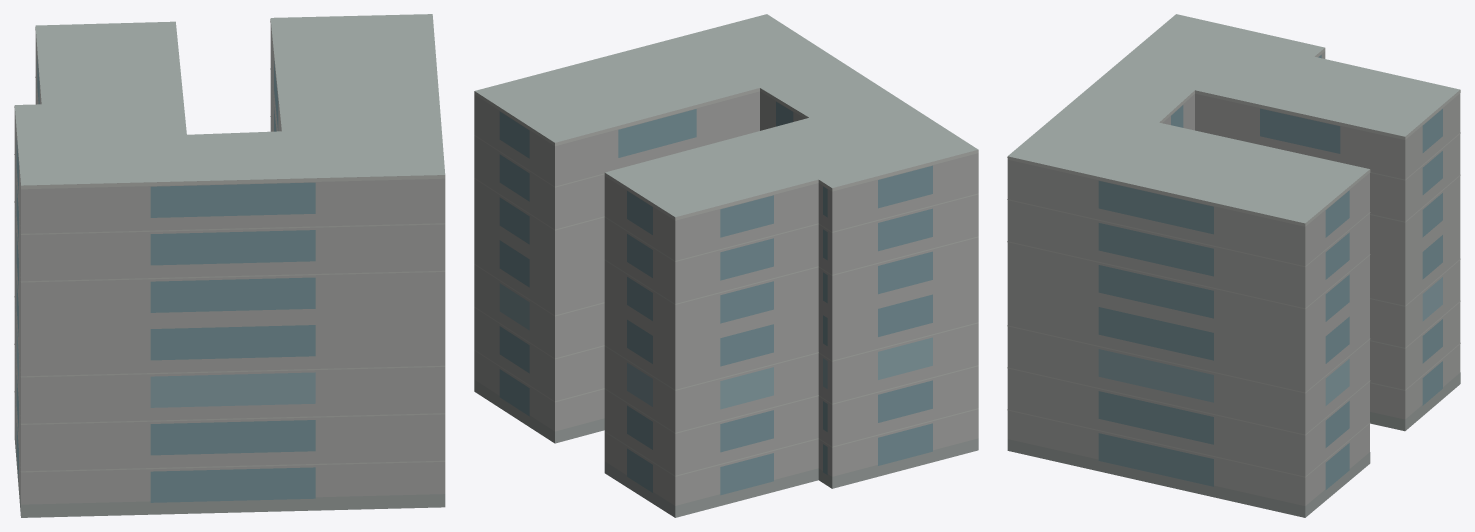
File: survey-upis-33011089.glb
3 renders of one model, left to right at view 1: azimuth 30°, elevation 25°; view 2: azimuth 150°, elevation 25°; view 3: azimuth 270°, elevation 25°, orthographic. The views are drawn at different scales.
Visible parts, largest first — view 1: survey-upis-33011089.tmp; view 2: survey-upis-33011089.tmp; view 3: survey-upis-33011089.tmp.
Boxes of the visible parts, <box> form: survey-upis-33011089.tmp: <box>14,14,445,517</box>; survey-upis-33011089.tmp: <box>474,14,978,517</box>; survey-upis-33011089.tmp: <box>1007,14,1460,517</box>.
Bounding box in the file's own units: 32.59 × 21.35 × 29.78.
